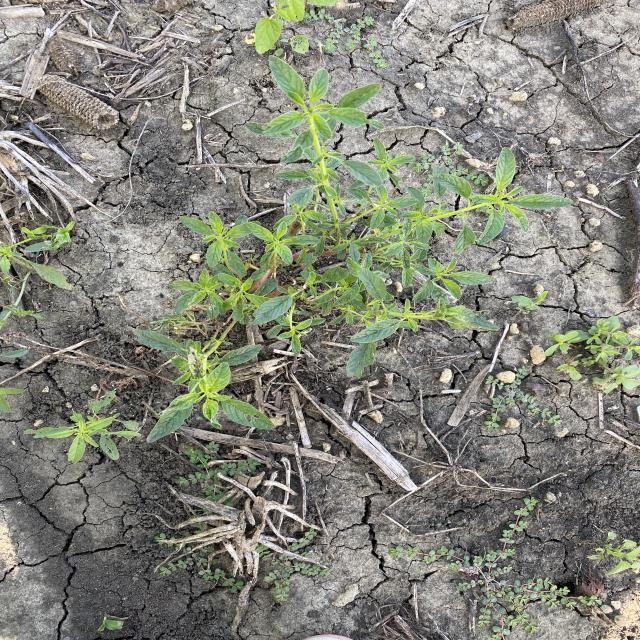Purslane: (540, 314, 638, 393)
SpottedSpurge: (380, 494, 608, 637), (156, 528, 335, 603), (166, 439, 264, 503), (478, 362, 566, 429), (299, 8, 389, 69)
Waterhemp: (137, 53, 576, 449), (22, 391, 143, 465)
